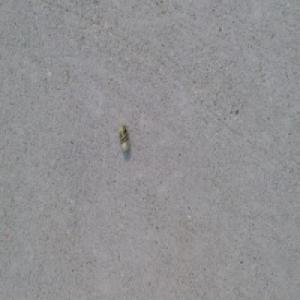BoltNutSet: (119, 122, 131, 150)
